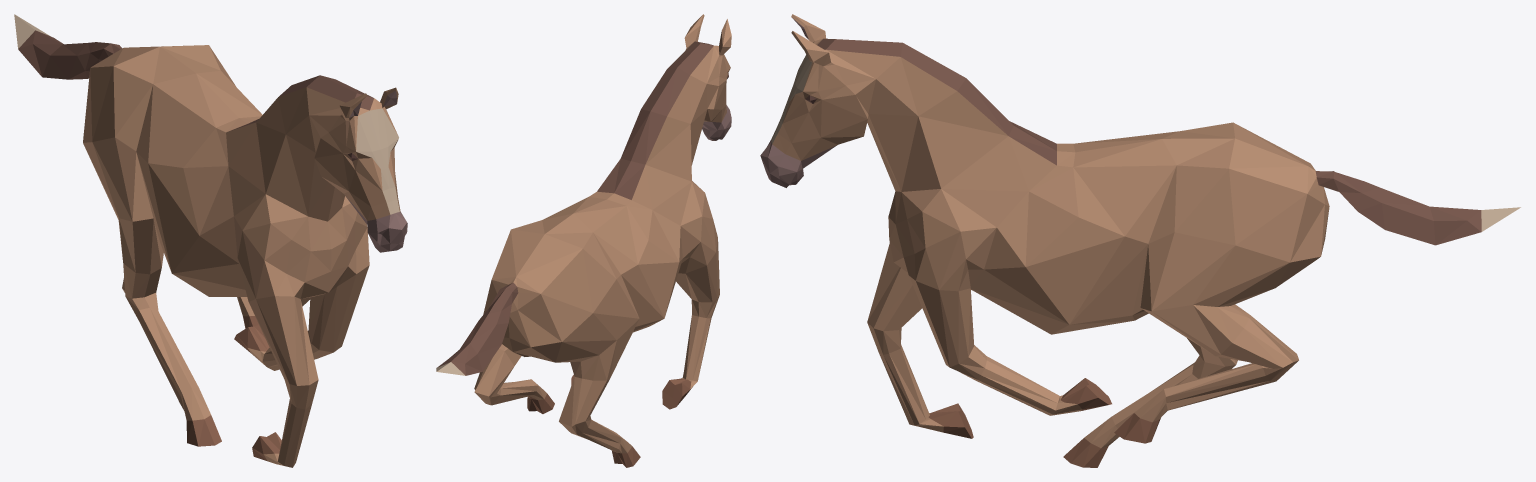
The model's file is Horse.glb.
3 renders of one model, left to right at view 1: azimuth 30°, elevation 25°; view 2: azimuth 150°, elevation 25°; view 3: azimuth 270°, elevation 25°, orthographic. The views are drawn at different scales.
Parts seen in each view (by area): view 1: mesh_0; view 2: mesh_0; view 3: mesh_0.
Boxes of the visible parts, box(x1,y1,x2,y2) form: mesh_0: box(14, 14, 407, 467); mesh_0: box(436, 14, 731, 467); mesh_0: box(760, 14, 1520, 467).
Bounding box in the file's own units: 65.89 × 184 × 277.
